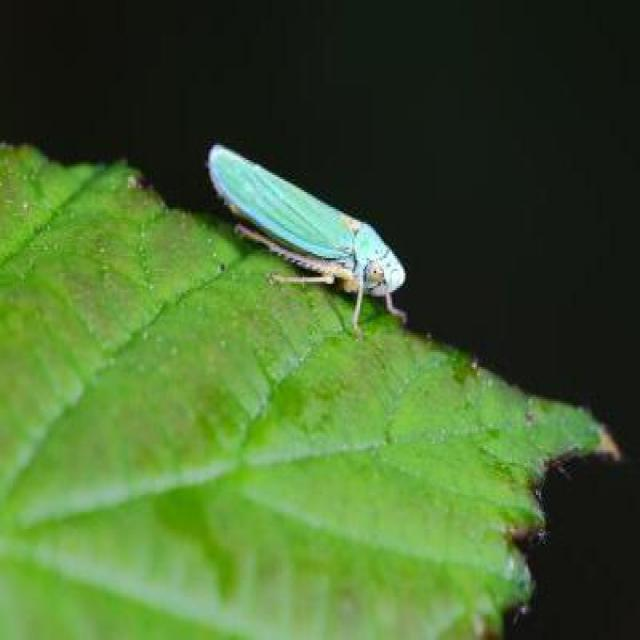Yechan: (192, 135, 418, 334)
